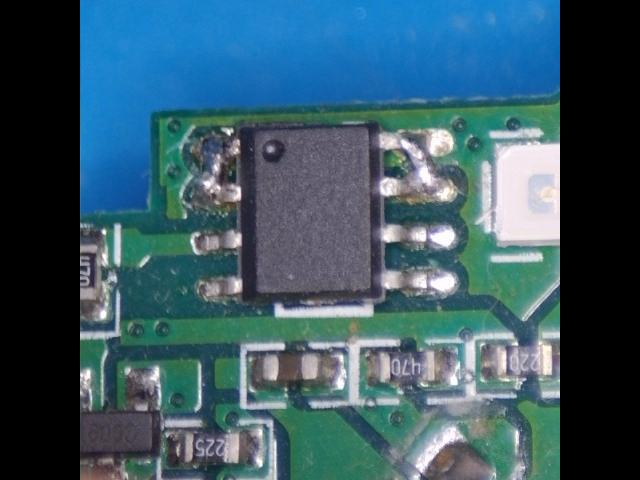Short_circuit: (380, 129, 454, 197), (193, 137, 243, 206)
